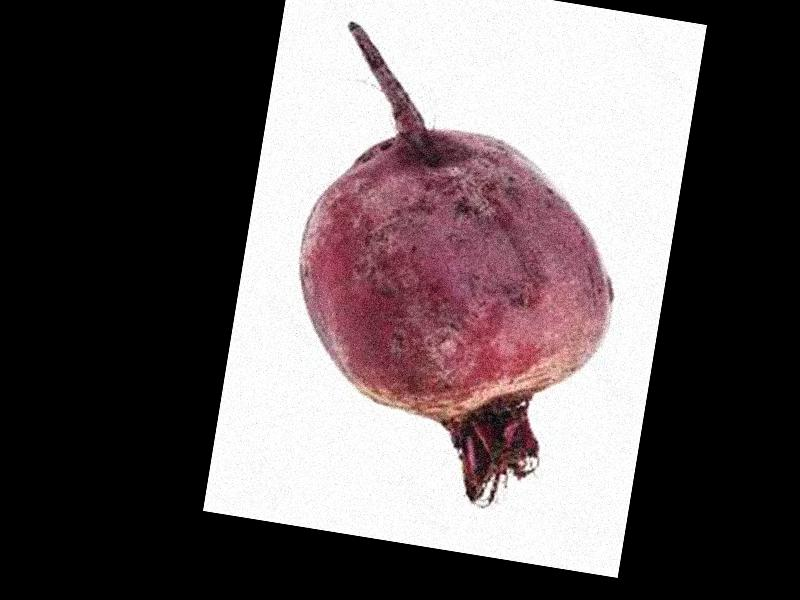Beet: (264, 20, 648, 521)
